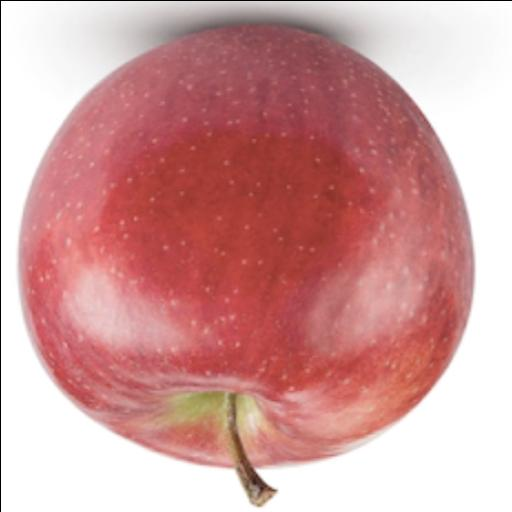apple: (20, 26, 473, 465)
